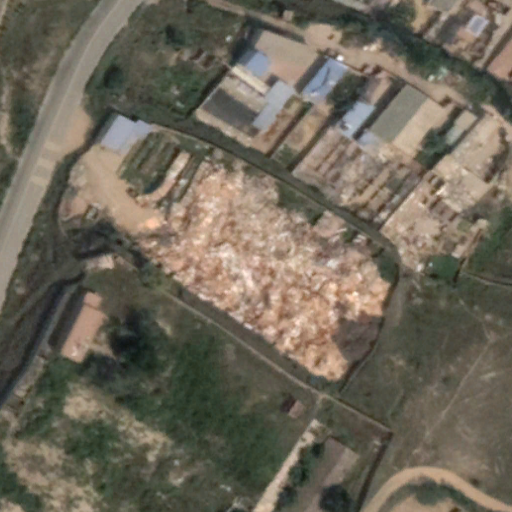msw: (141, 148, 392, 385)
